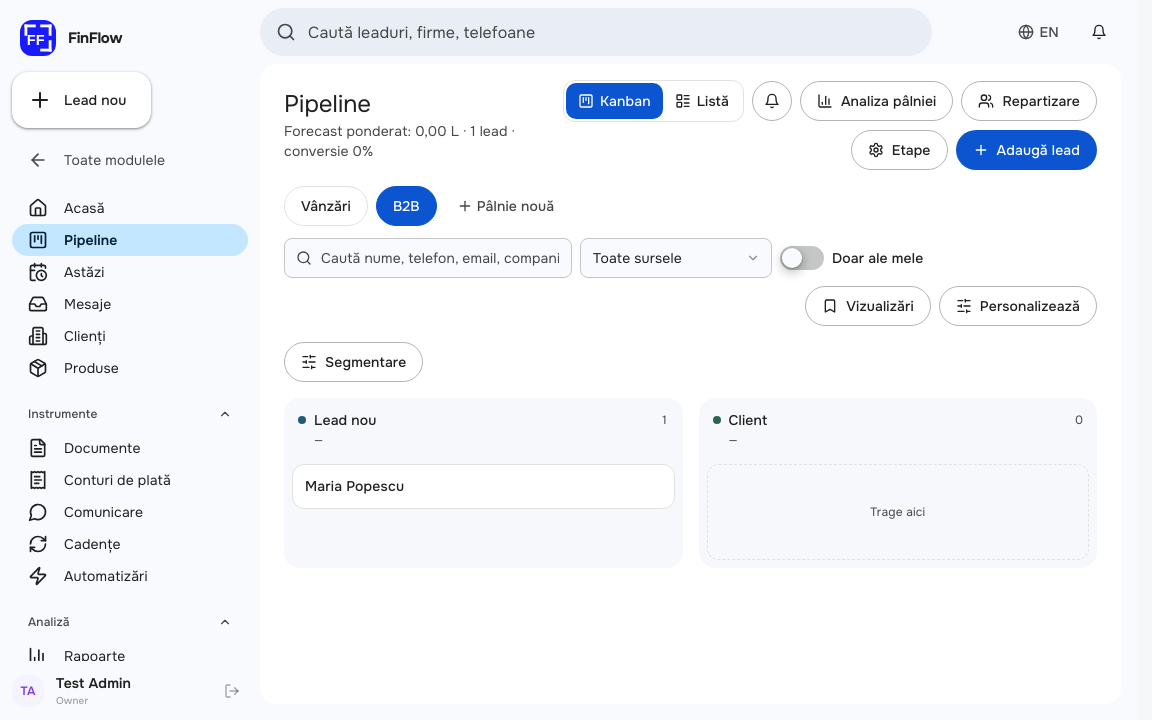
Comutarea kanban ↔ listă › [blocant] „Listă” cere serverului leadurile PÂLNIEI afișate, paginat
This screenshot has width=1152, height=720.
Click the button "Listă" at (702, 101), box left=663, top=83, right=741, bottom=119
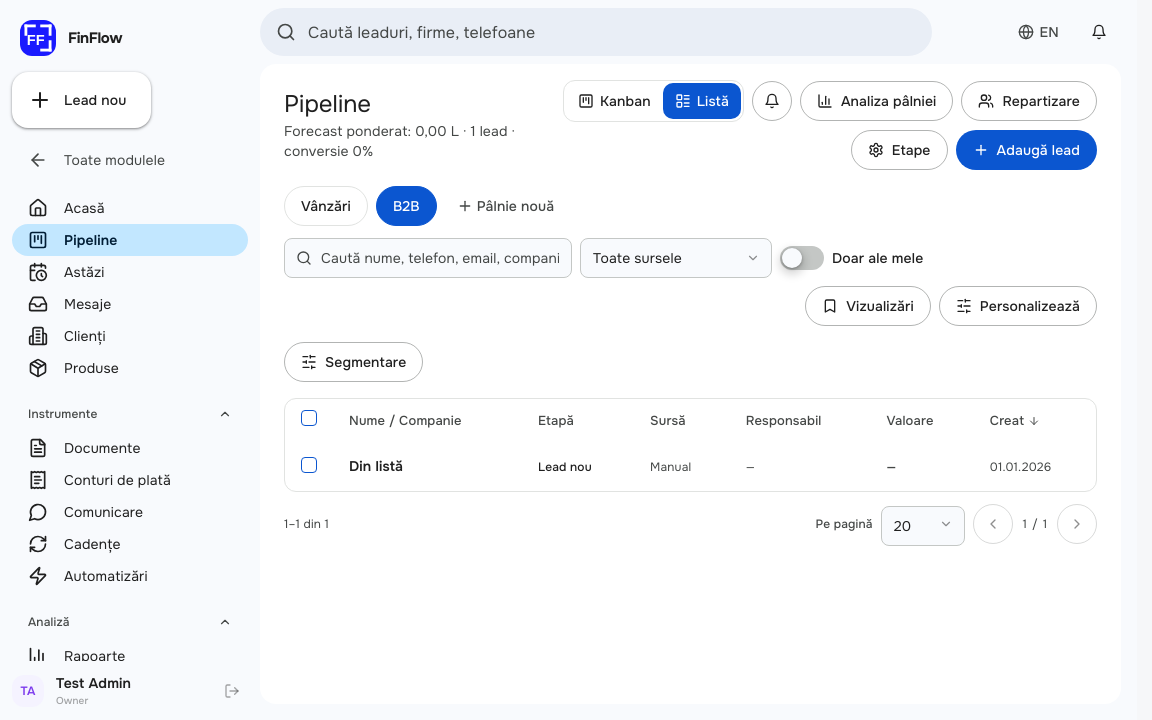
Expected: the text "Din listă" is shown, left=349, top=457, right=403, bottom=475
